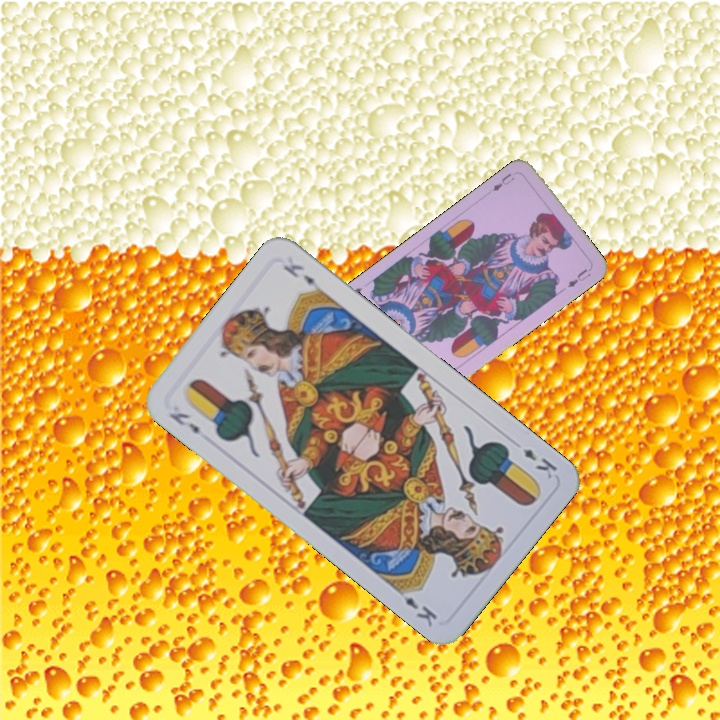EK: (518, 444, 560, 482), (165, 408, 203, 437)
EU: (488, 169, 517, 194)
